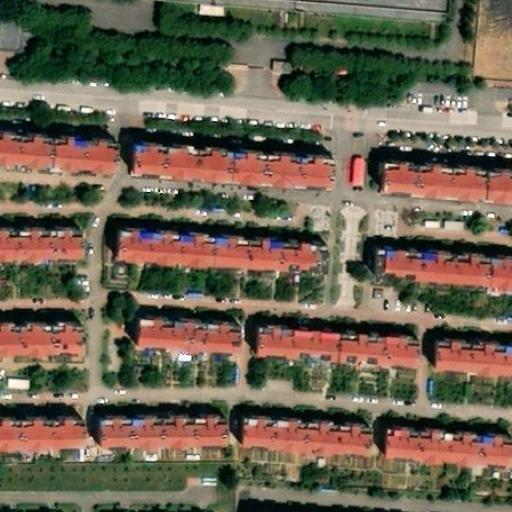building: (117, 245, 326, 283), (361, 250, 512, 300), (268, 328, 419, 377), (138, 163, 332, 200), (388, 171, 512, 216), (393, 436, 512, 482), (0, 126, 114, 172), (246, 425, 378, 464), (106, 433, 233, 471), (144, 319, 243, 364), (0, 317, 80, 357), (431, 350, 512, 386), (0, 412, 80, 448), (0, 222, 80, 257), (0, 15, 22, 49), (346, 153, 363, 186), (266, 54, 291, 72), (3, 372, 29, 388), (114, 0, 136, 5)
